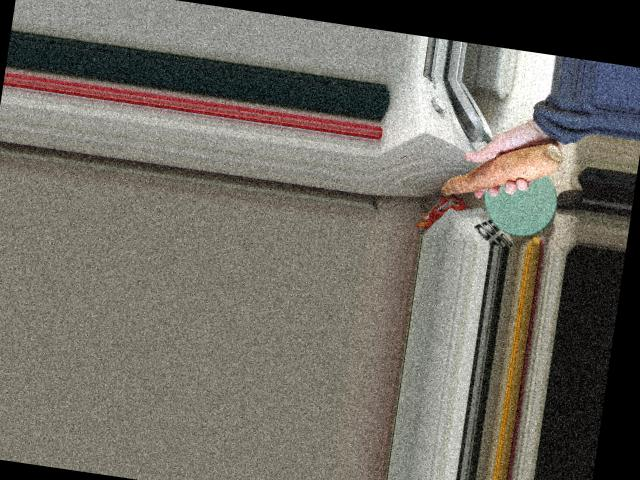sweet_potato: (431, 124, 567, 216)
